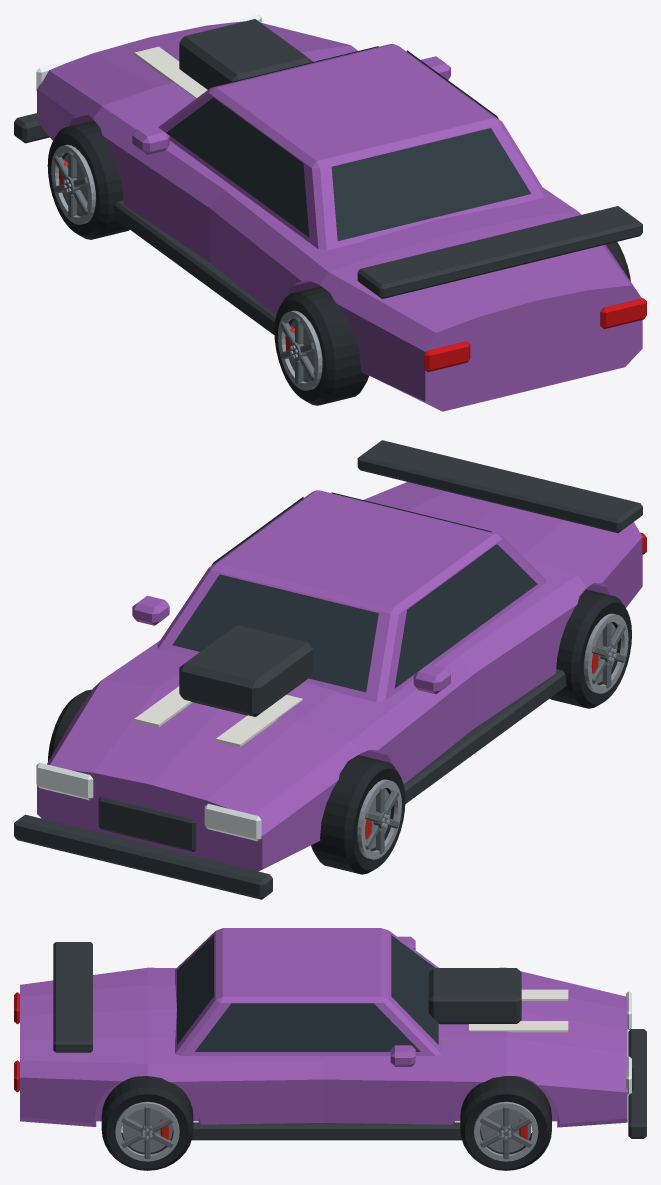
File: car_muscle.glb
3 views of the same model, one above another, from view 1: azimuth 30°, elevation 25°; view 2: azimuth 150°, elevation 25°; view 3: azimuth 270°, elevation 25° (orthographic). The views are drawn at different scales.
Parts seen in each view (by area): view 1: Body.002, WheelMesh.010, WheelMesh.008; view 2: Body.002, WheelMesh.008, WheelMesh.010, WheelMesh.009; view 3: Body.002, WheelMesh.011, WheelMesh.009.
Part boxes in pixels (x1=…): Body.002: x1=14, y1=14, x2=646, y2=411; WheelMesh.010: x1=274, y1=286, x2=368, y2=405; WheelMesh.008: x1=47, y1=120, x2=129, y2=239; Body.002: x1=14, y1=440, x2=646, y2=899; WheelMesh.008: x1=311, y1=755, x2=405, y2=874; WheelMesh.010: x1=550, y1=589, x2=631, y2=708; WheelMesh.009: x1=48, y1=689, x2=91, y2=761; Body.002: x1=14, y1=928, x2=646, y2=1140; WheelMesh.011: x1=101, y1=1076, x2=193, y2=1170; WheelMesh.009: x1=460, y1=1076, x2=551, y2=1170.
Size of the model in its own units: 2.36 by 1.35 by 5.1.
